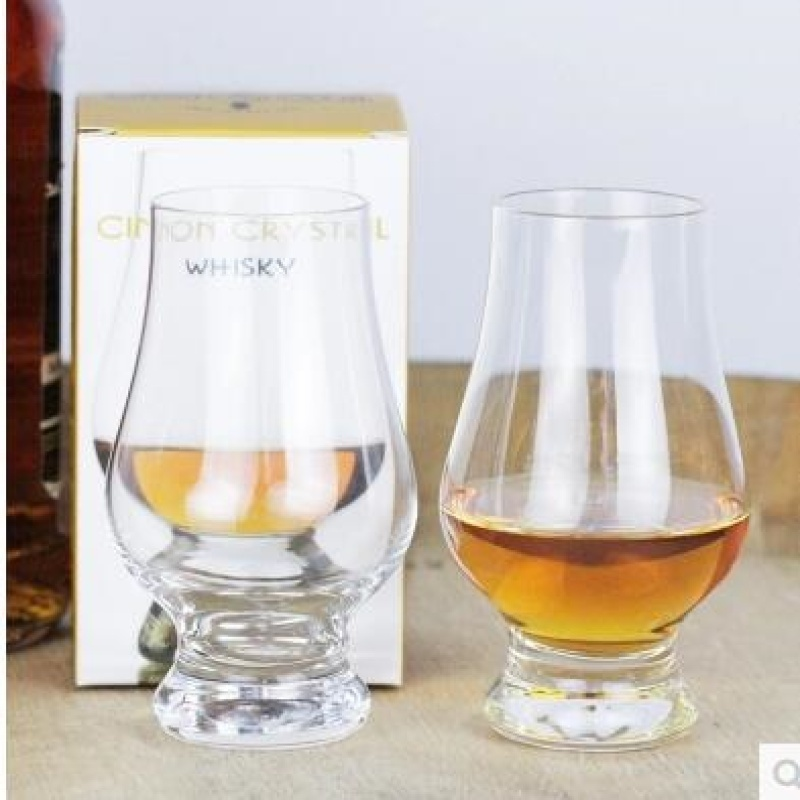whiskey: (458, 187, 745, 653)
